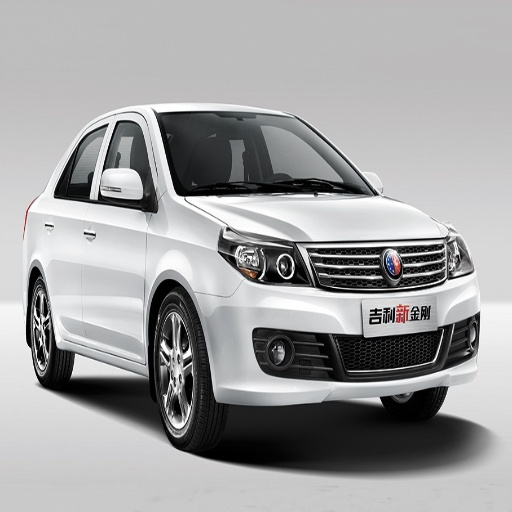front_bumper: (196, 237, 478, 400)
front_right_door: (82, 113, 155, 358)
front_right_light: (220, 230, 309, 284)
